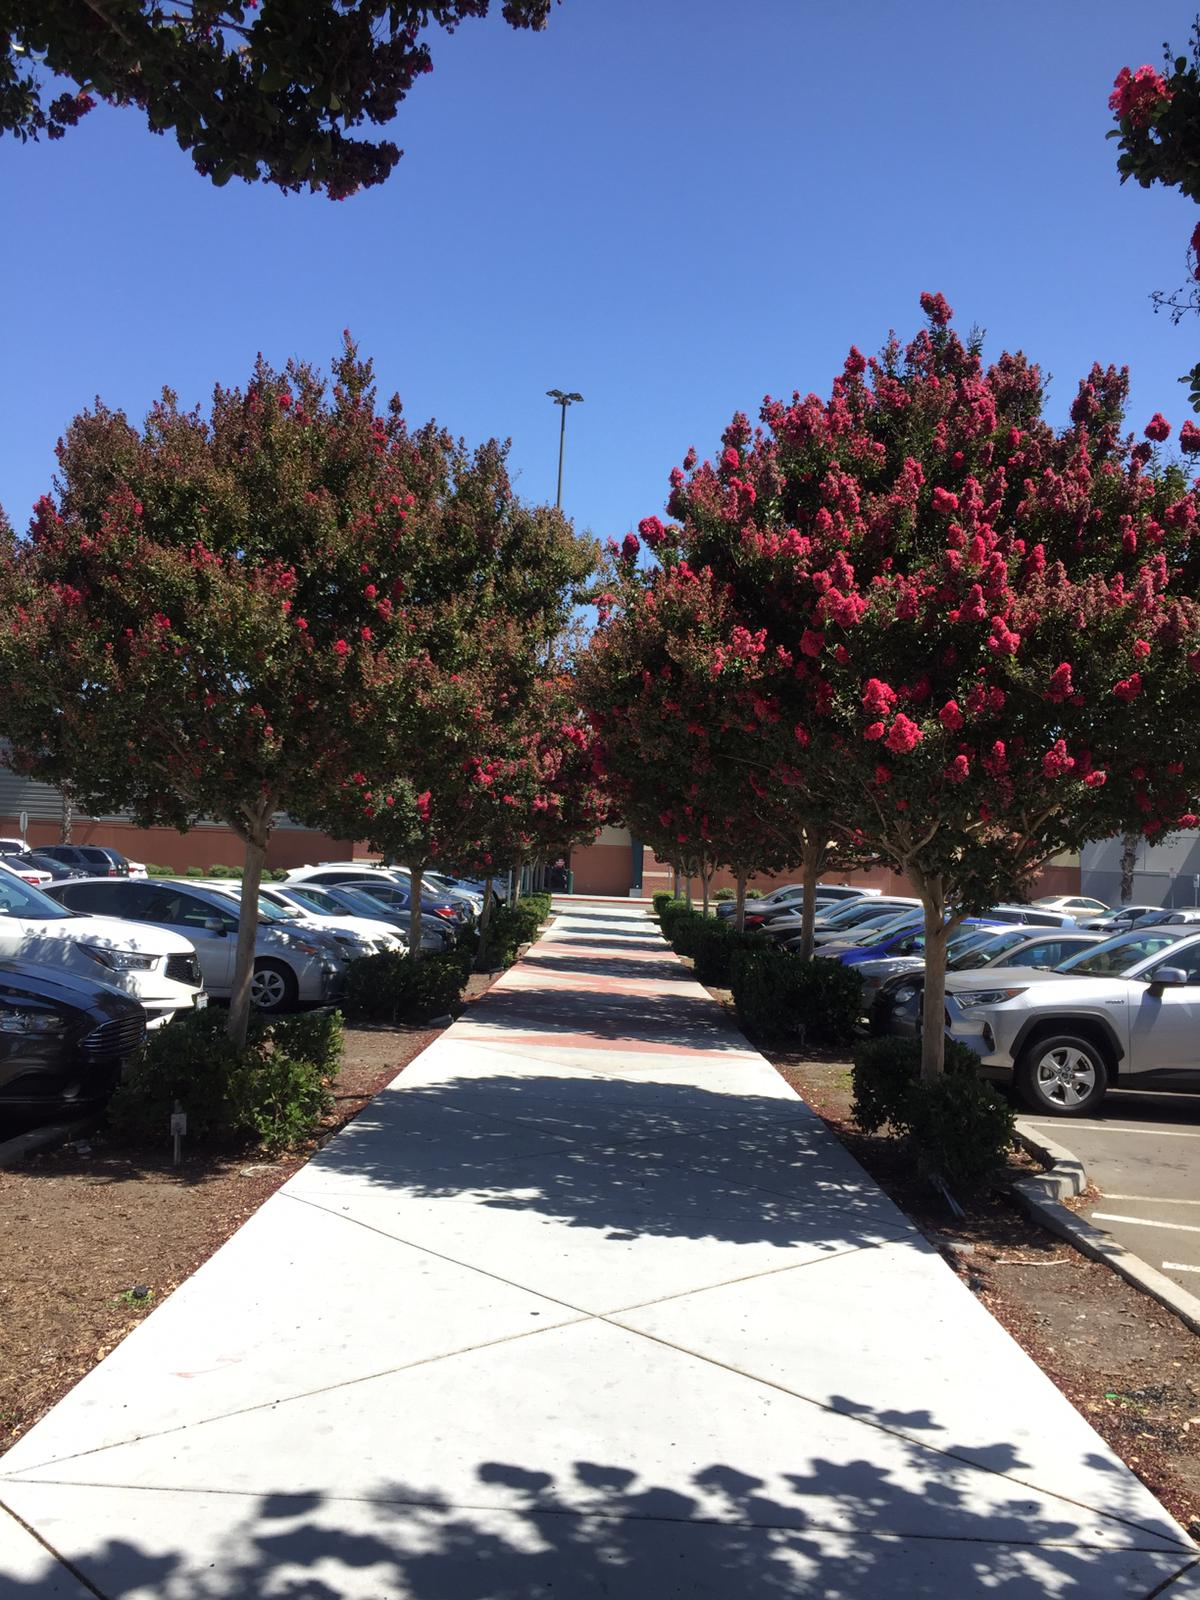plants: (29, 363, 605, 860), (624, 336, 1200, 834)
